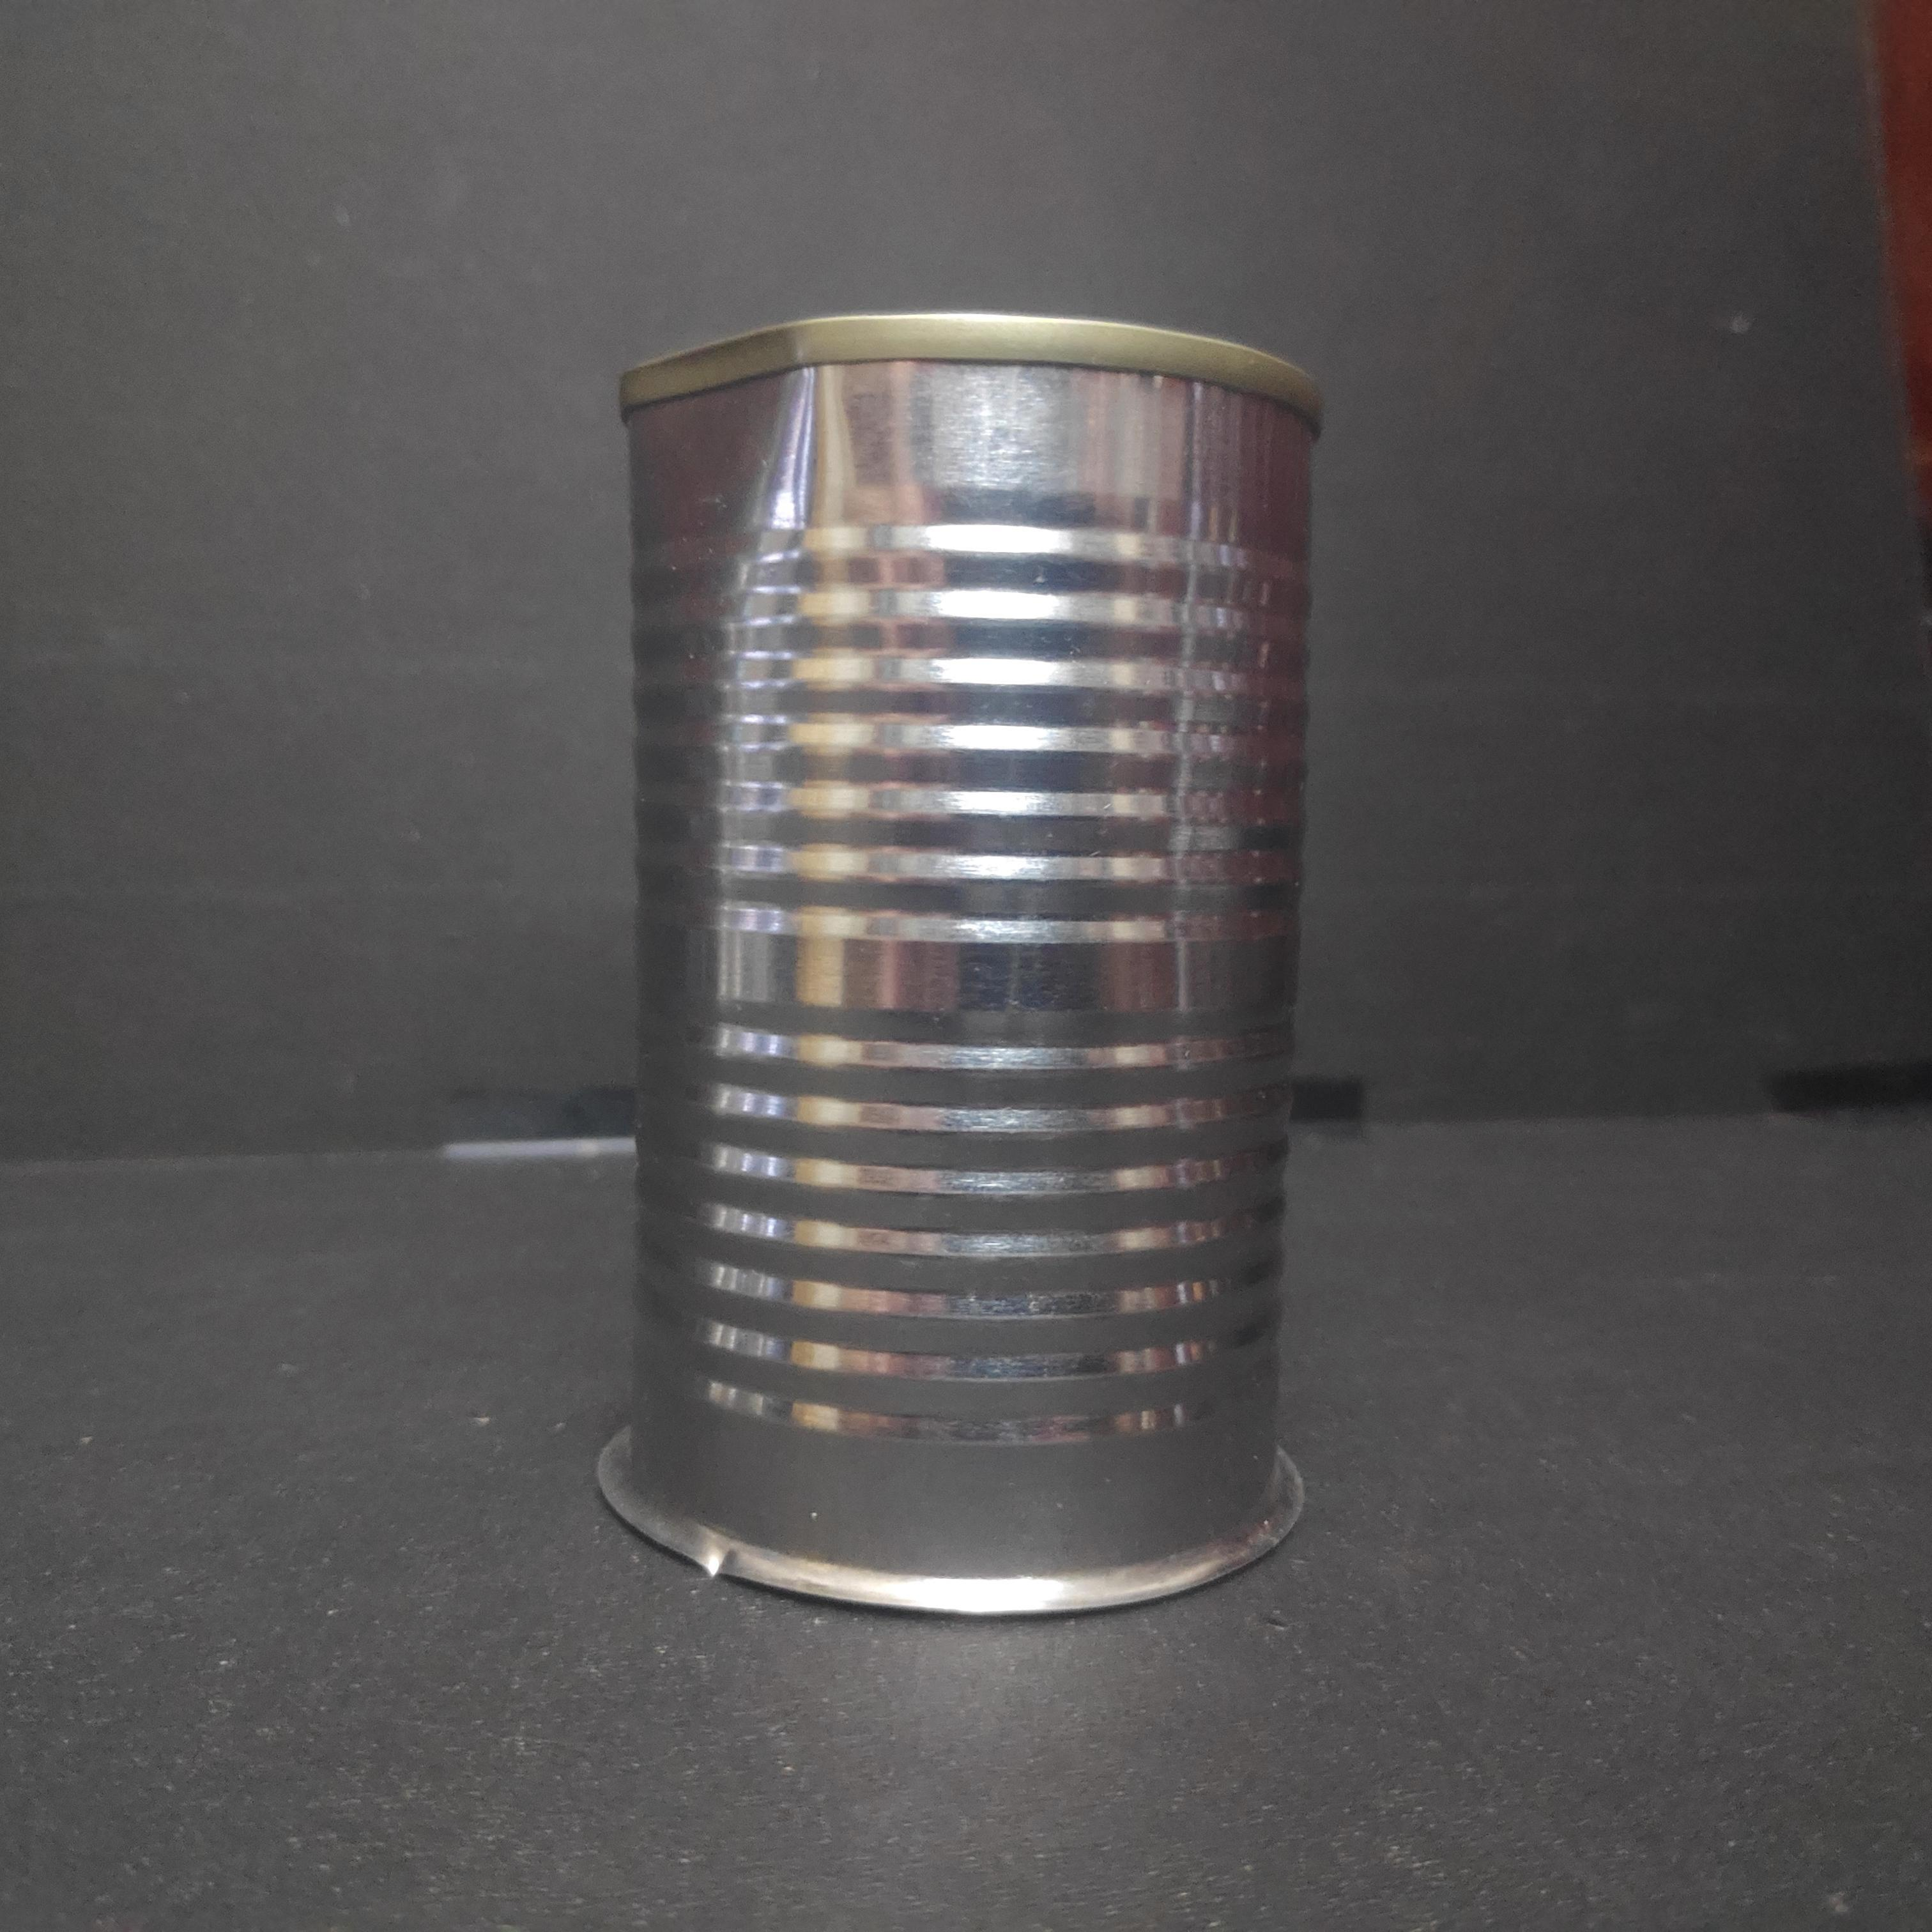Dented: (594, 301, 1323, 1619)
